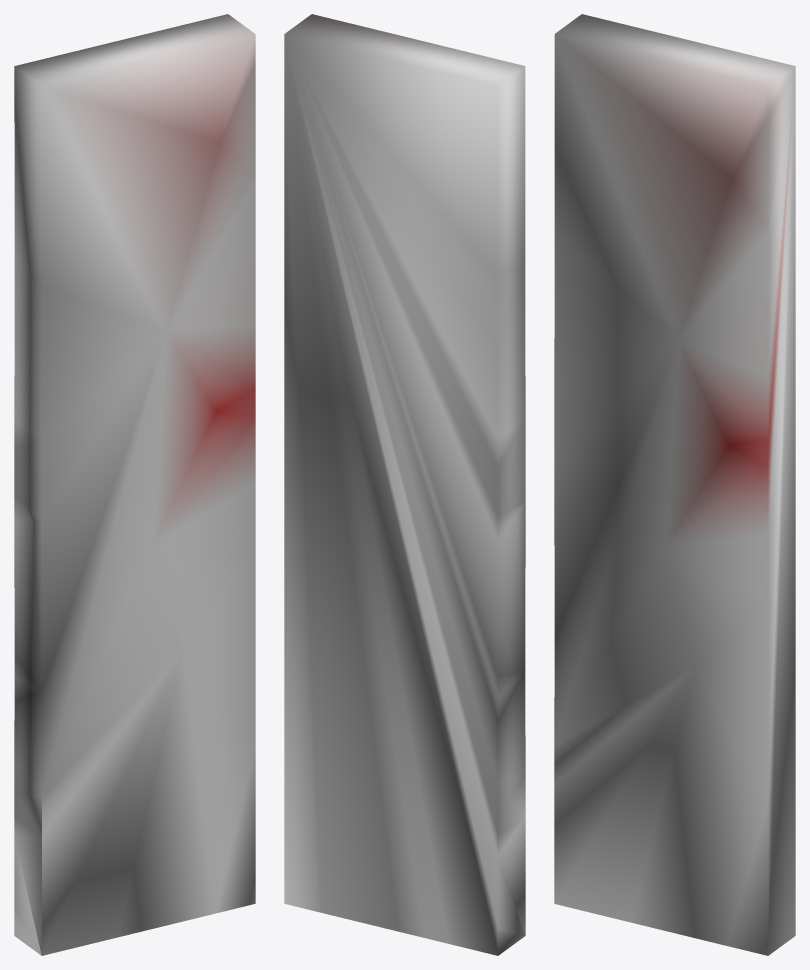
Rendered from SM_FA_Factory_W90_H350.fbx.
3 renders of one model, left to right at view 1: azimuth 30°, elevation 25°; view 2: azimuth 150°, elevation 25°; view 3: azimuth 330°, elevation 25°, orthographic.
Parts seen in each view (by area): view 1: SM_FA_Factory_W90_H350; view 2: SM_FA_Factory_W90_H350; view 3: SM_FA_Factory_W90_H350.
Part boxes in pixels (x1,y1,x2,y2): SM_FA_Factory_W90_H350: (14,14,255,955); SM_FA_Factory_W90_H350: (284,14,525,955); SM_FA_Factory_W90_H350: (554,14,795,955).
Size of the model in its own units: 90 by 20 by 350.
